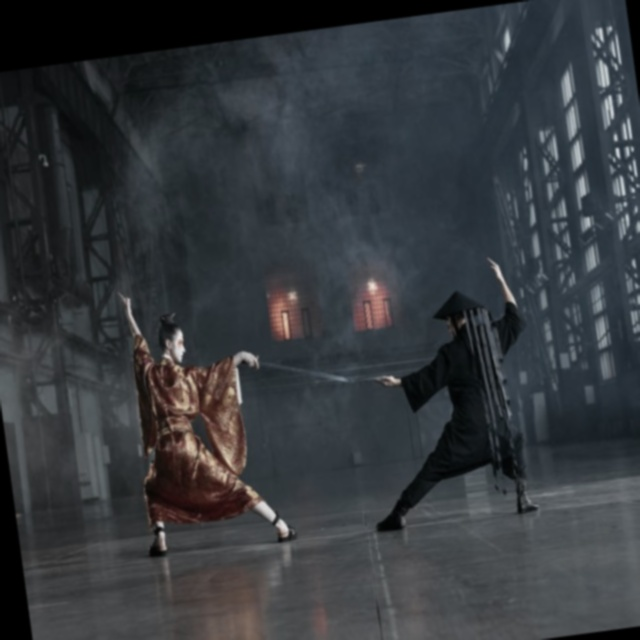Sharp-Object: (239, 337, 356, 399)
